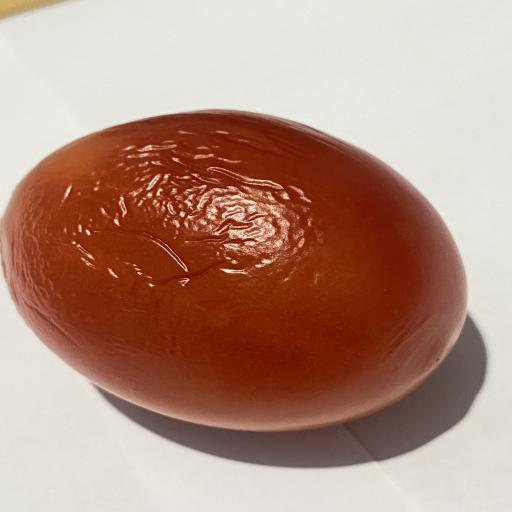spoiled: (0, 110, 466, 431)
